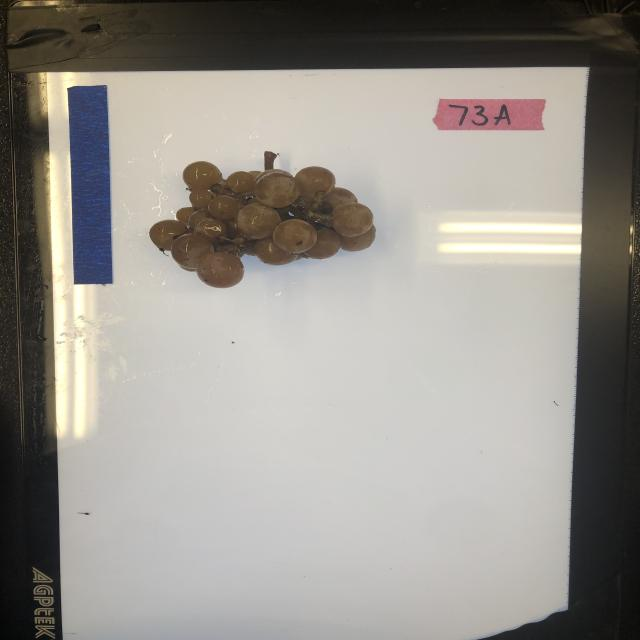grape_cluster: (148, 150, 378, 288)
index: (433, 97, 548, 132)
measure_label: (65, 84, 114, 286)
